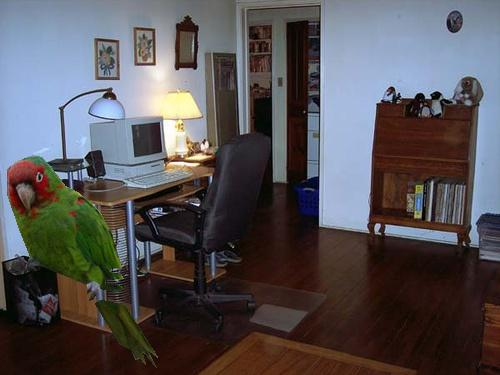tampered: (8, 156, 158, 369)
